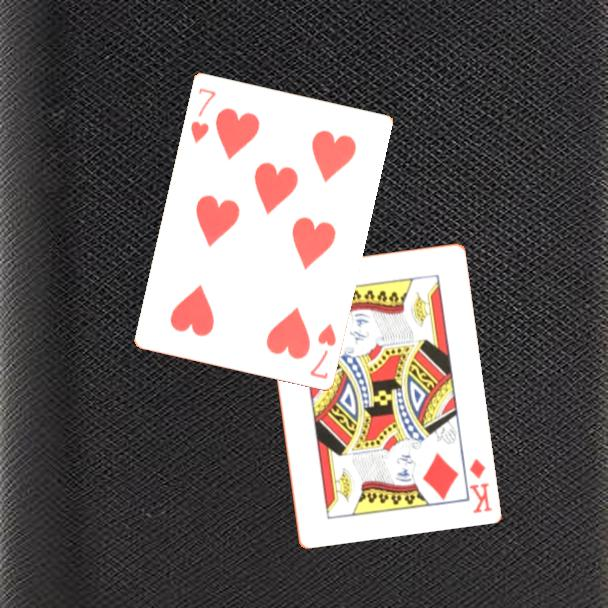d13: (466, 454, 495, 516)
h07: (306, 319, 339, 382), (187, 84, 219, 146)
